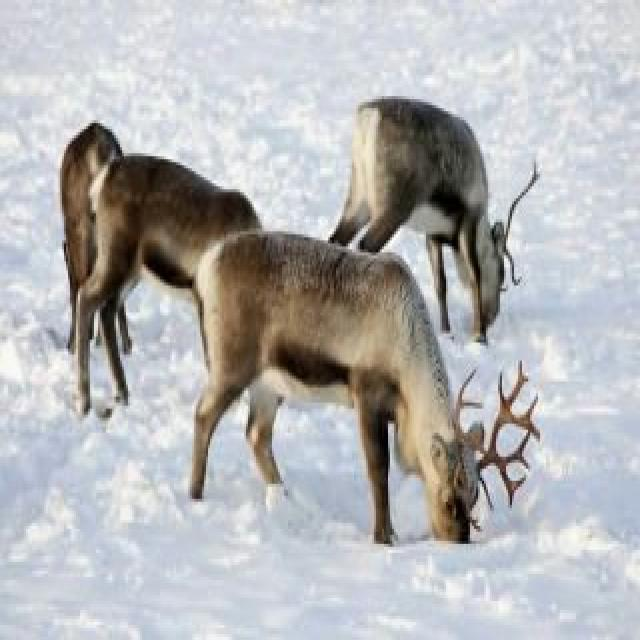reindeer: (194, 231, 540, 541), (330, 96, 540, 340), (80, 153, 262, 409), (62, 123, 122, 349)
